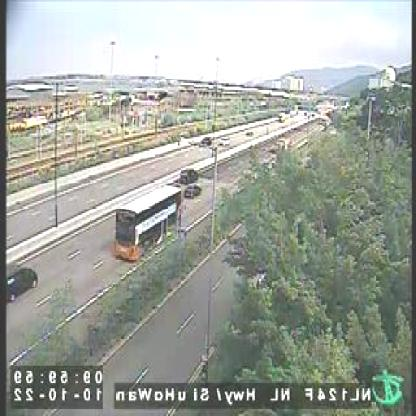Bus: (115, 187, 182, 259)
Car: (7, 266, 39, 302), (177, 168, 199, 184), (187, 182, 202, 197)
